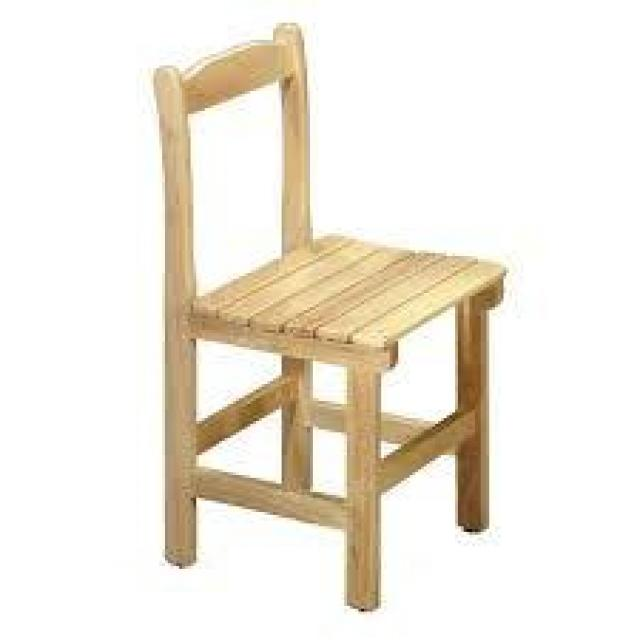chair: (125, 29, 529, 612)
